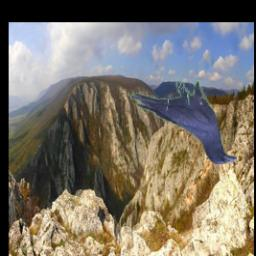Crow: (129, 73, 237, 165)
